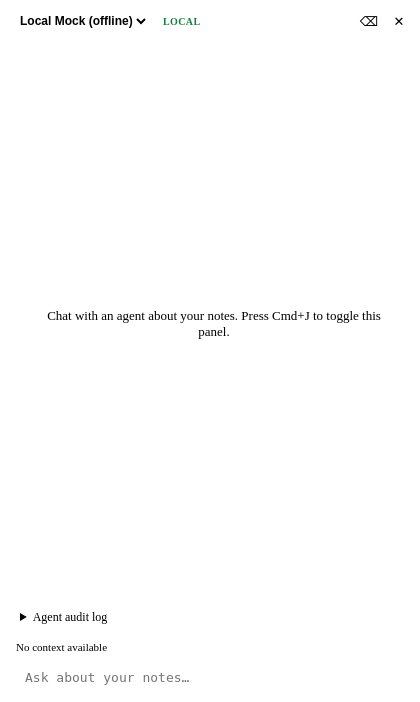
Test: ChatOverlay › audit log panel › says so when nothing has been recorded
The image size is (420, 702).
Click the heading "Agent audit log". click: (70,617)
box: [33,610,107,624]
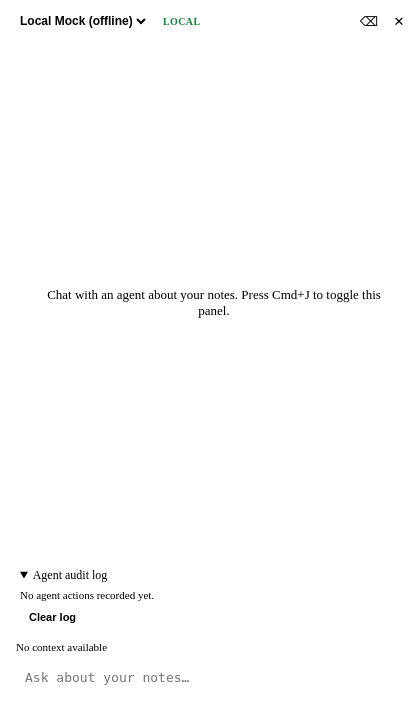
Check: the text "No agent actions recorded yet." is shown, box [20,589,154,601]
